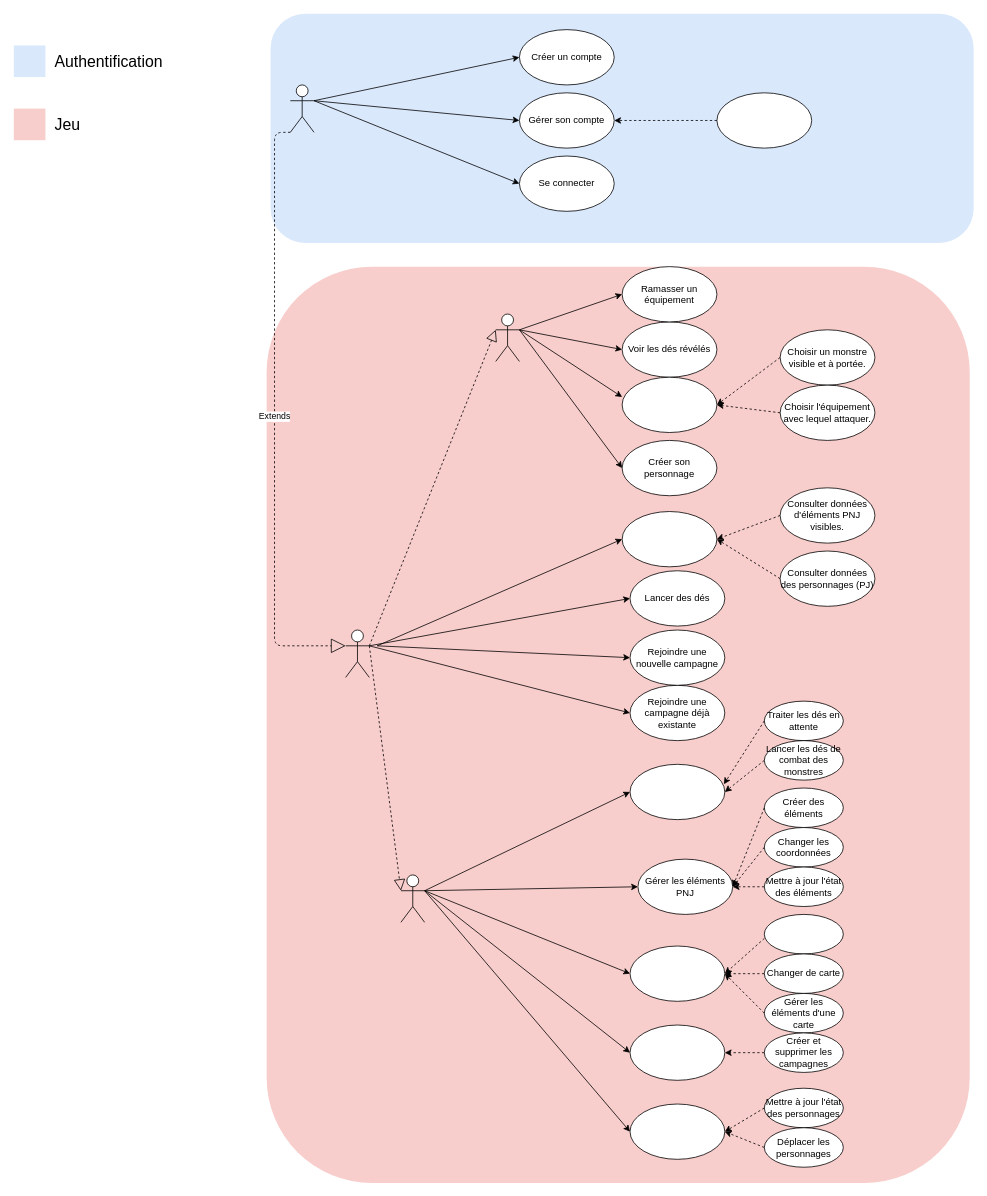
This 987x1196 diagram has some shape labels left out. The shapes that lost their labels are listed below. From the top down, each one's centre as x and y in pixels, then its label:
the point at 302,108: Utilisateur
the point at 764,120: Changer d'identifiant ou de mot de passe
the point at 507,337: Joueur
the point at 669,404: Attaquer un monstre à portée
the point at 669,539: Consulter données
the point at 357,653: Actor
the point at 677,792: Gérer les lancers de dés
the point at 412,898: Maitre de jeu
the point at 803,934: Créer des cartes
the point at 677,973: Gérer les cartes
the point at 677,1052: Gérer les campagnes
the point at 677,1131: Gérer les personnages
